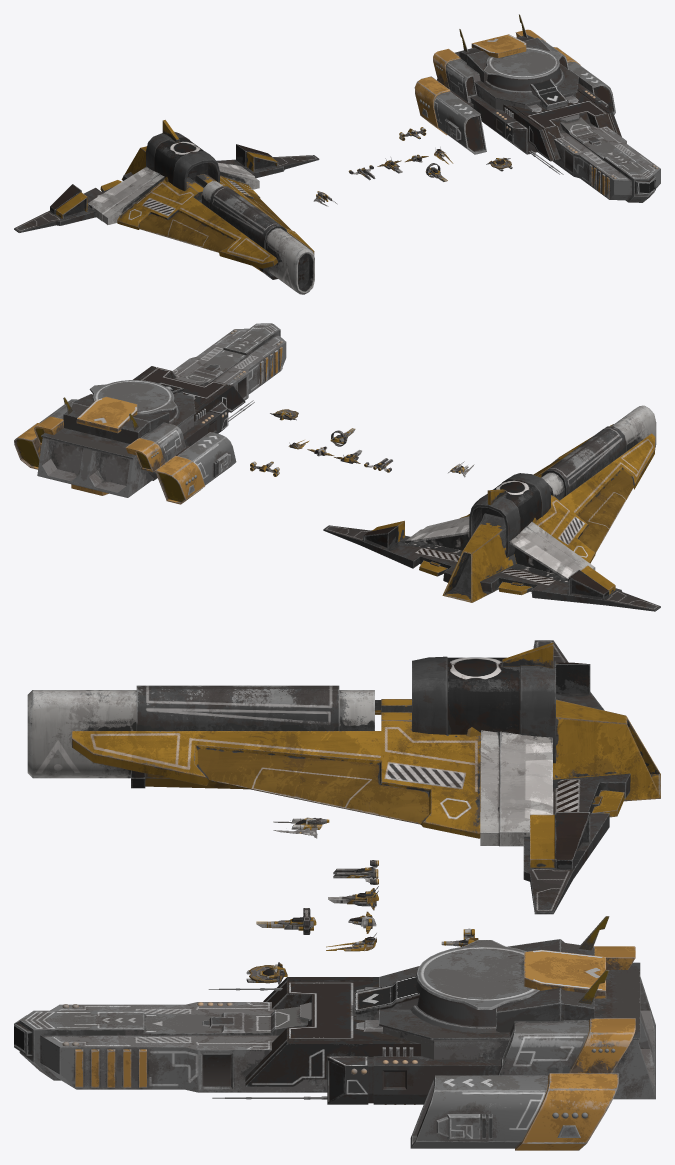
Rendered from ships.glb.
3 views of the same model, one above another, from view 1: azimuth 30°, elevation 25°; view 2: azimuth 150°, elevation 25°; view 3: azimuth 270°, elevation 25° (orthographic). The views are drawn at different scales.
Visible parts, largest first — view 1: Insurgent, Omen; view 2: Omen, Insurgent; view 3: Insurgent, Omen.
Boxes of the visible parts, bbox=[...] form: Insurgent: bbox=[414, 14, 660, 202]; Omen: bbox=[14, 119, 319, 294]; Omen: bbox=[323, 405, 660, 611]; Insurgent: bbox=[14, 323, 286, 504]; Insurgent: bbox=[14, 916, 655, 1150]; Omen: bbox=[27, 640, 660, 914].
Size of the model in its own units: 243 by 33.73 by 130.
Materials: 10 (10 with a texture image).
